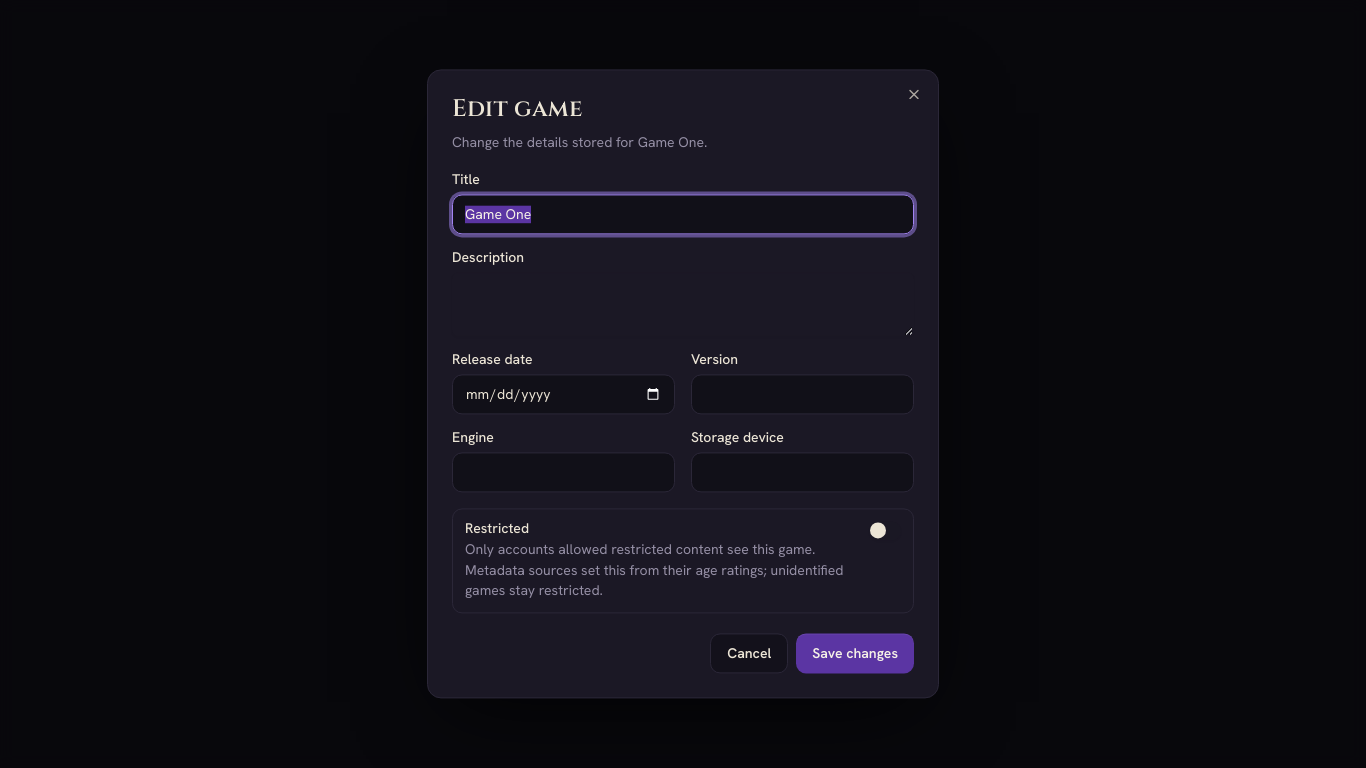
Test: ArchiveEditDialog › shows an error toast and stays open when the update fails
What coordinates should you click on to do the following:
click the button "Save changes"
I would click on:
 (855, 654)
Its box is [796,634,914,674].
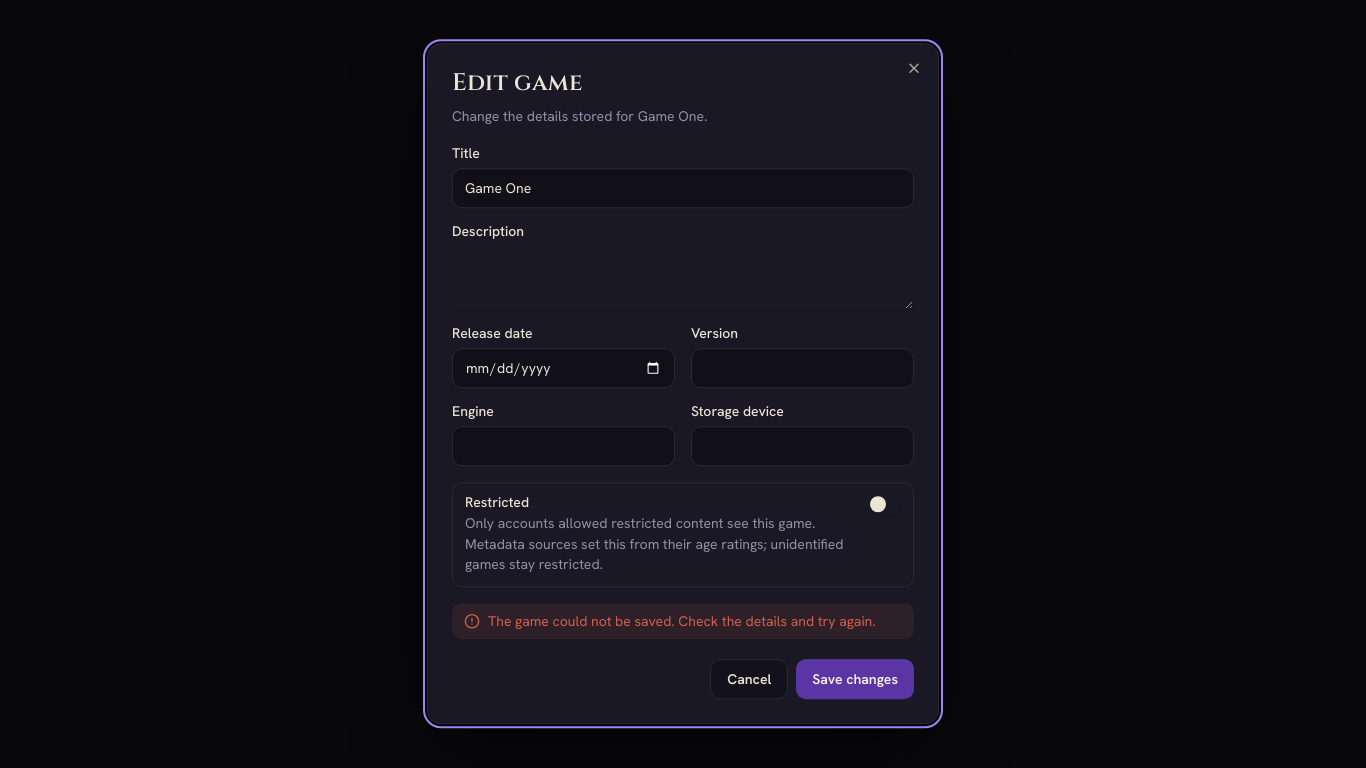
Expected: the text "The game could not be saved. Check the details and try again." is shown, [452,603,914,640]
